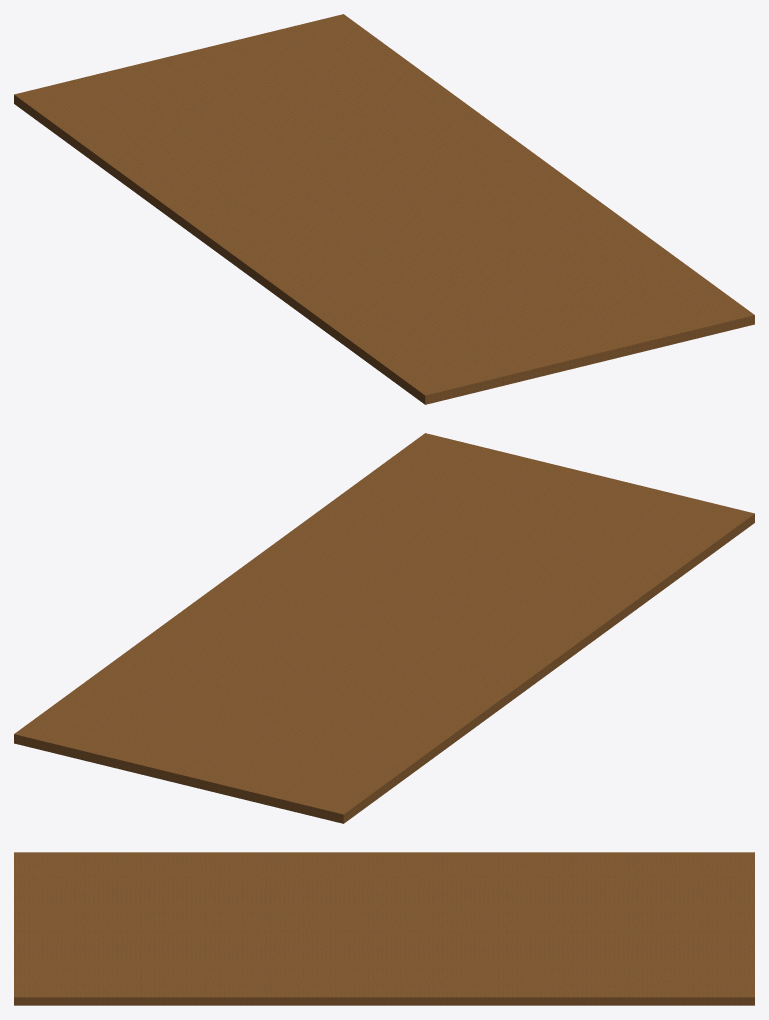
Rendered from DesGr3.glb.
The picture shows the model from 3 angles, top to bottom: view 1: azimuth 30°, elevation 25°; view 2: azimuth 150°, elevation 25°; view 3: azimuth 270°, elevation 25°; orthographic projection. The views are drawn at different scales.
Parts seen in each view (by area): view 1: DesGr3; view 2: DesGr3; view 3: DesGr3.
Part boxes in pixels (x1,y1,x2,y2): DesGr3: (14, 14, 754, 404); DesGr3: (14, 433, 754, 823); DesGr3: (14, 852, 754, 1005).
Bounding box in the file's own units: 9446 × 256 × 20410.
1 material, 1 textured.
